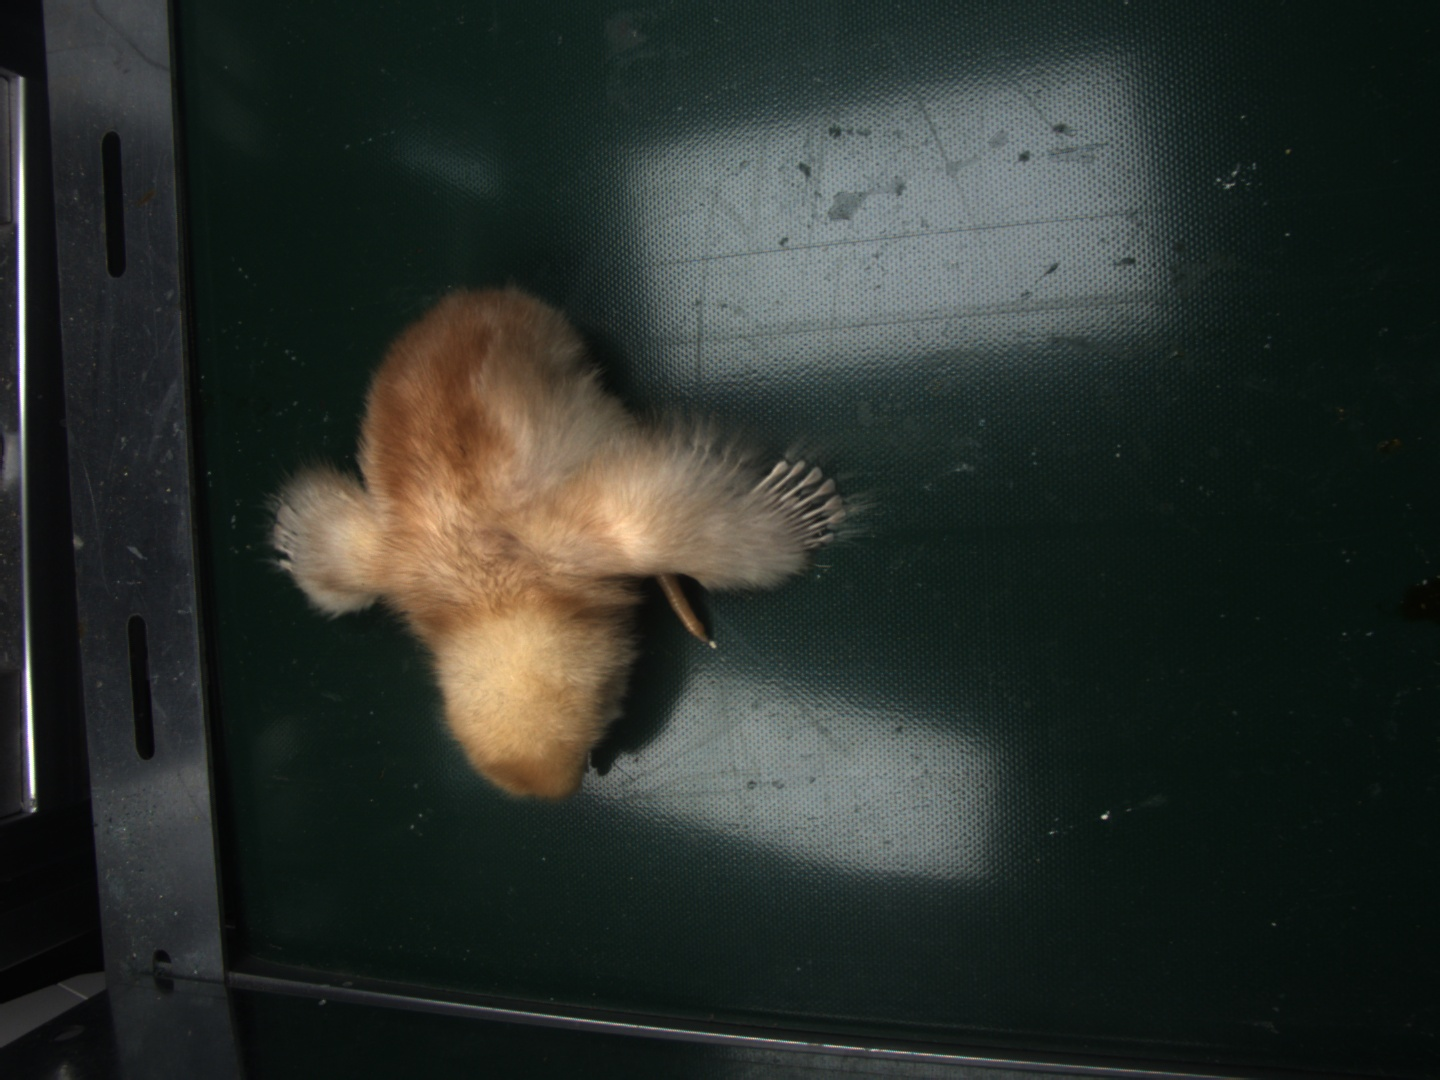female: (759, 458, 847, 549)
